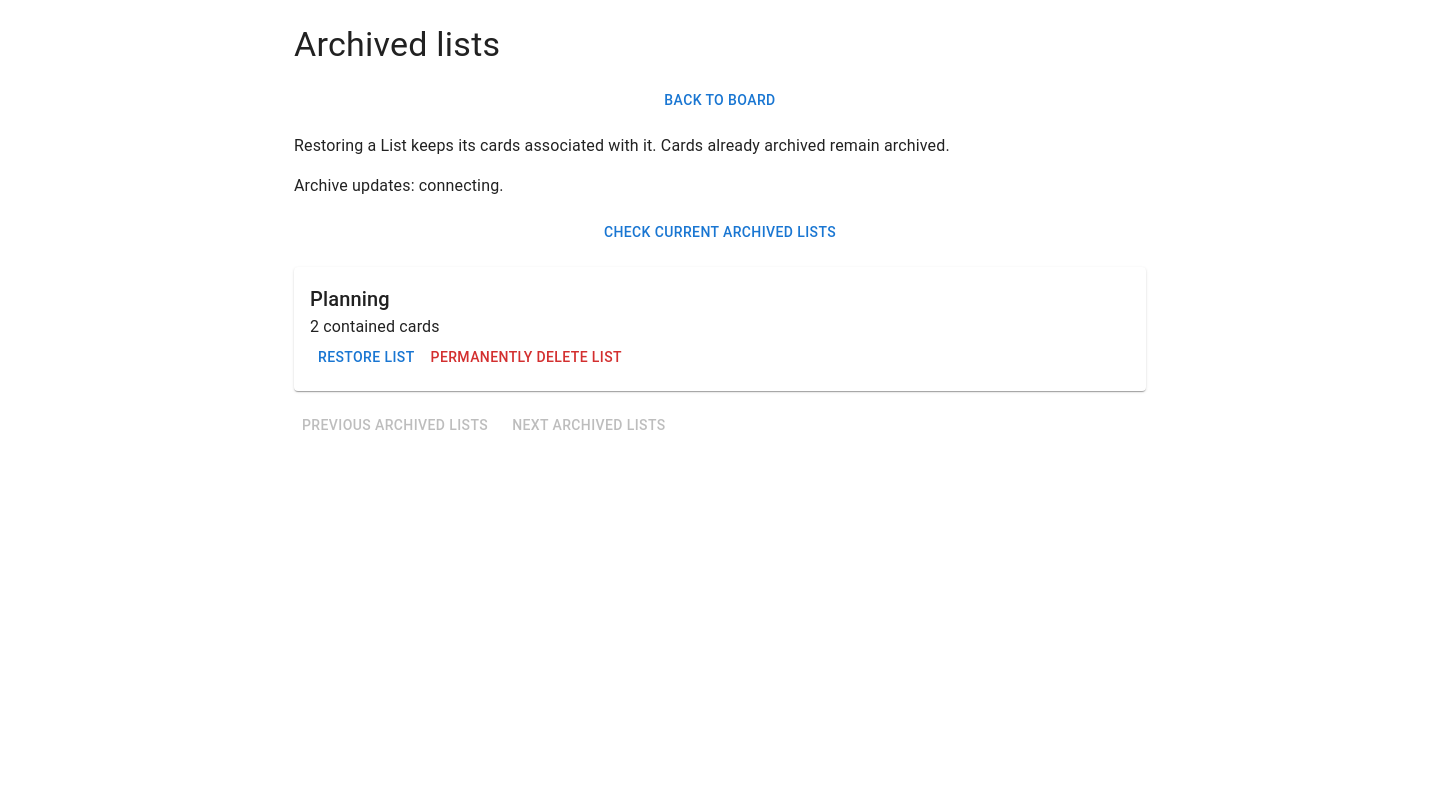
Test: shows counted archived Lists, submits a reviewed keyed restore and refreshes authoritative data
Click the button with aria-label "Restore Planning list" at (366, 357), box [310,339,422,376]
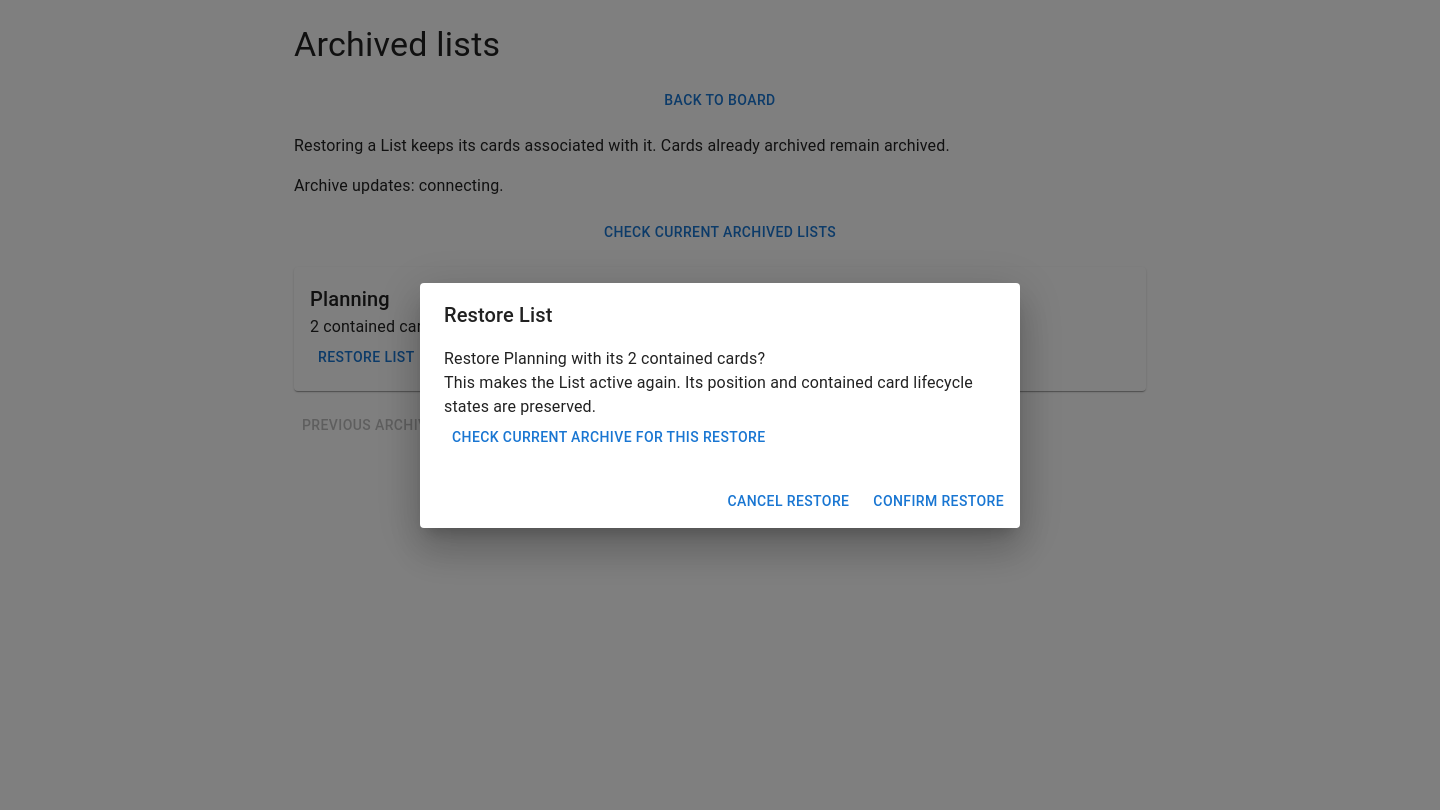
Expected: the text "Restore Planning with its 2 contained cards?" is shown, [444,348,765,368]
Click the button "Confirm restore" at (939, 501), box [865,483,1012,520]
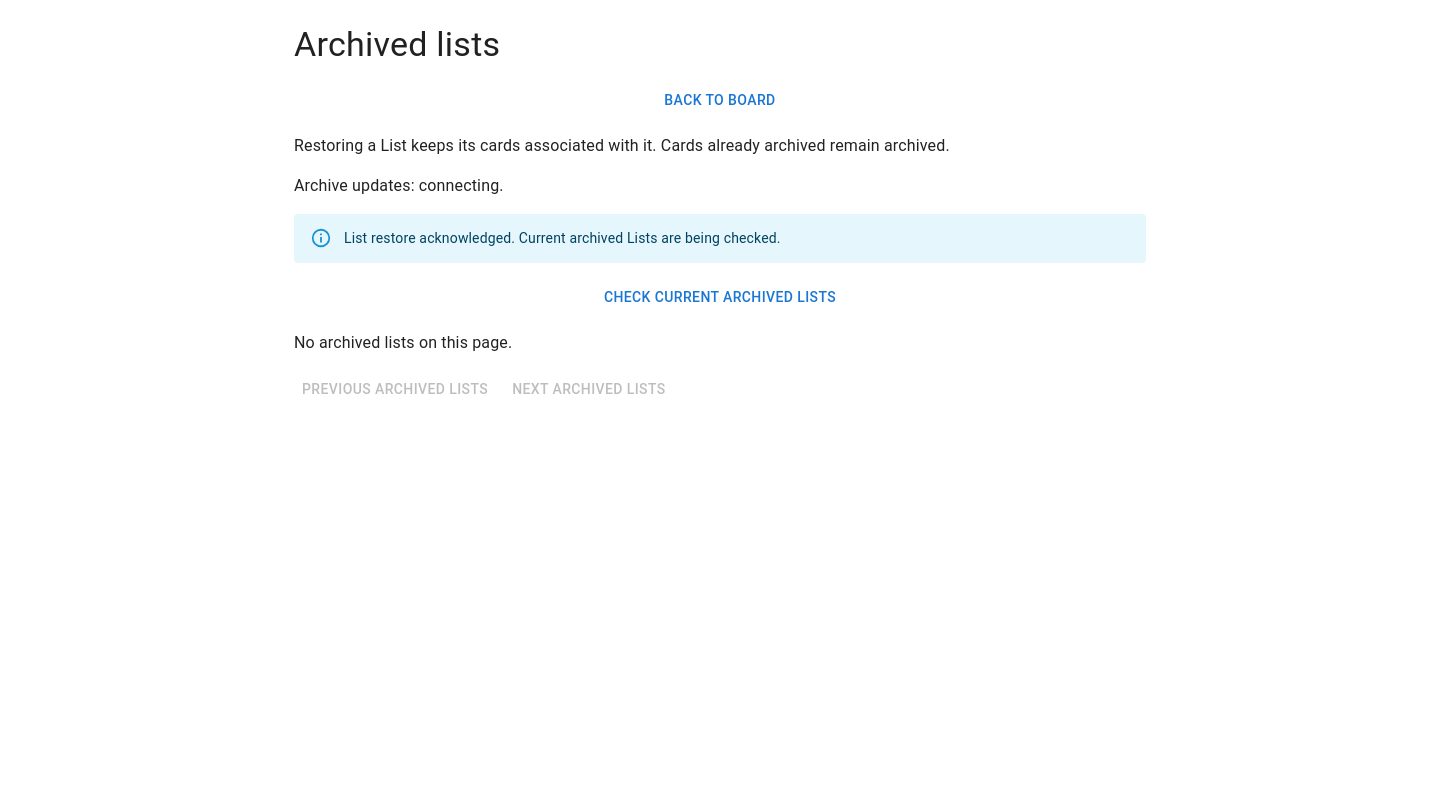
Expected: the text "No archived lists on this page." is shown, [294,333,512,352]
